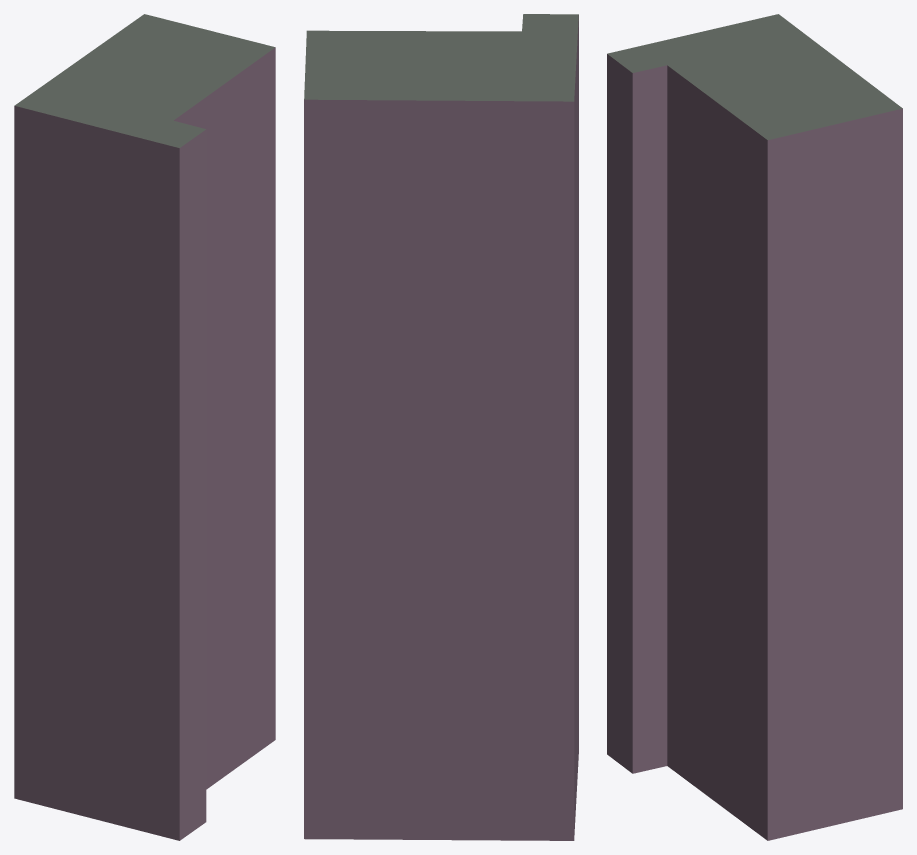
File: nyc-1090579-0.glb
The picture shows the model from 3 angles, left to right: view 1: azimuth 30°, elevation 25°; view 2: azimuth 150°, elevation 25°; view 3: azimuth 270°, elevation 25°; orthographic projection. The views are drawn at different scales.
Visible parts, largest first — view 1: nyc-1090579-0; view 2: nyc-1090579-0; view 3: nyc-1090579-0.
Part boxes in pixels (x1,y1,x2,y2): nyc-1090579-0: (14, 14, 275, 840); nyc-1090579-0: (304, 14, 578, 840); nyc-1090579-0: (607, 14, 902, 840).
Bounding box in the file's own units: 44.18 × 114 × 43.76.
